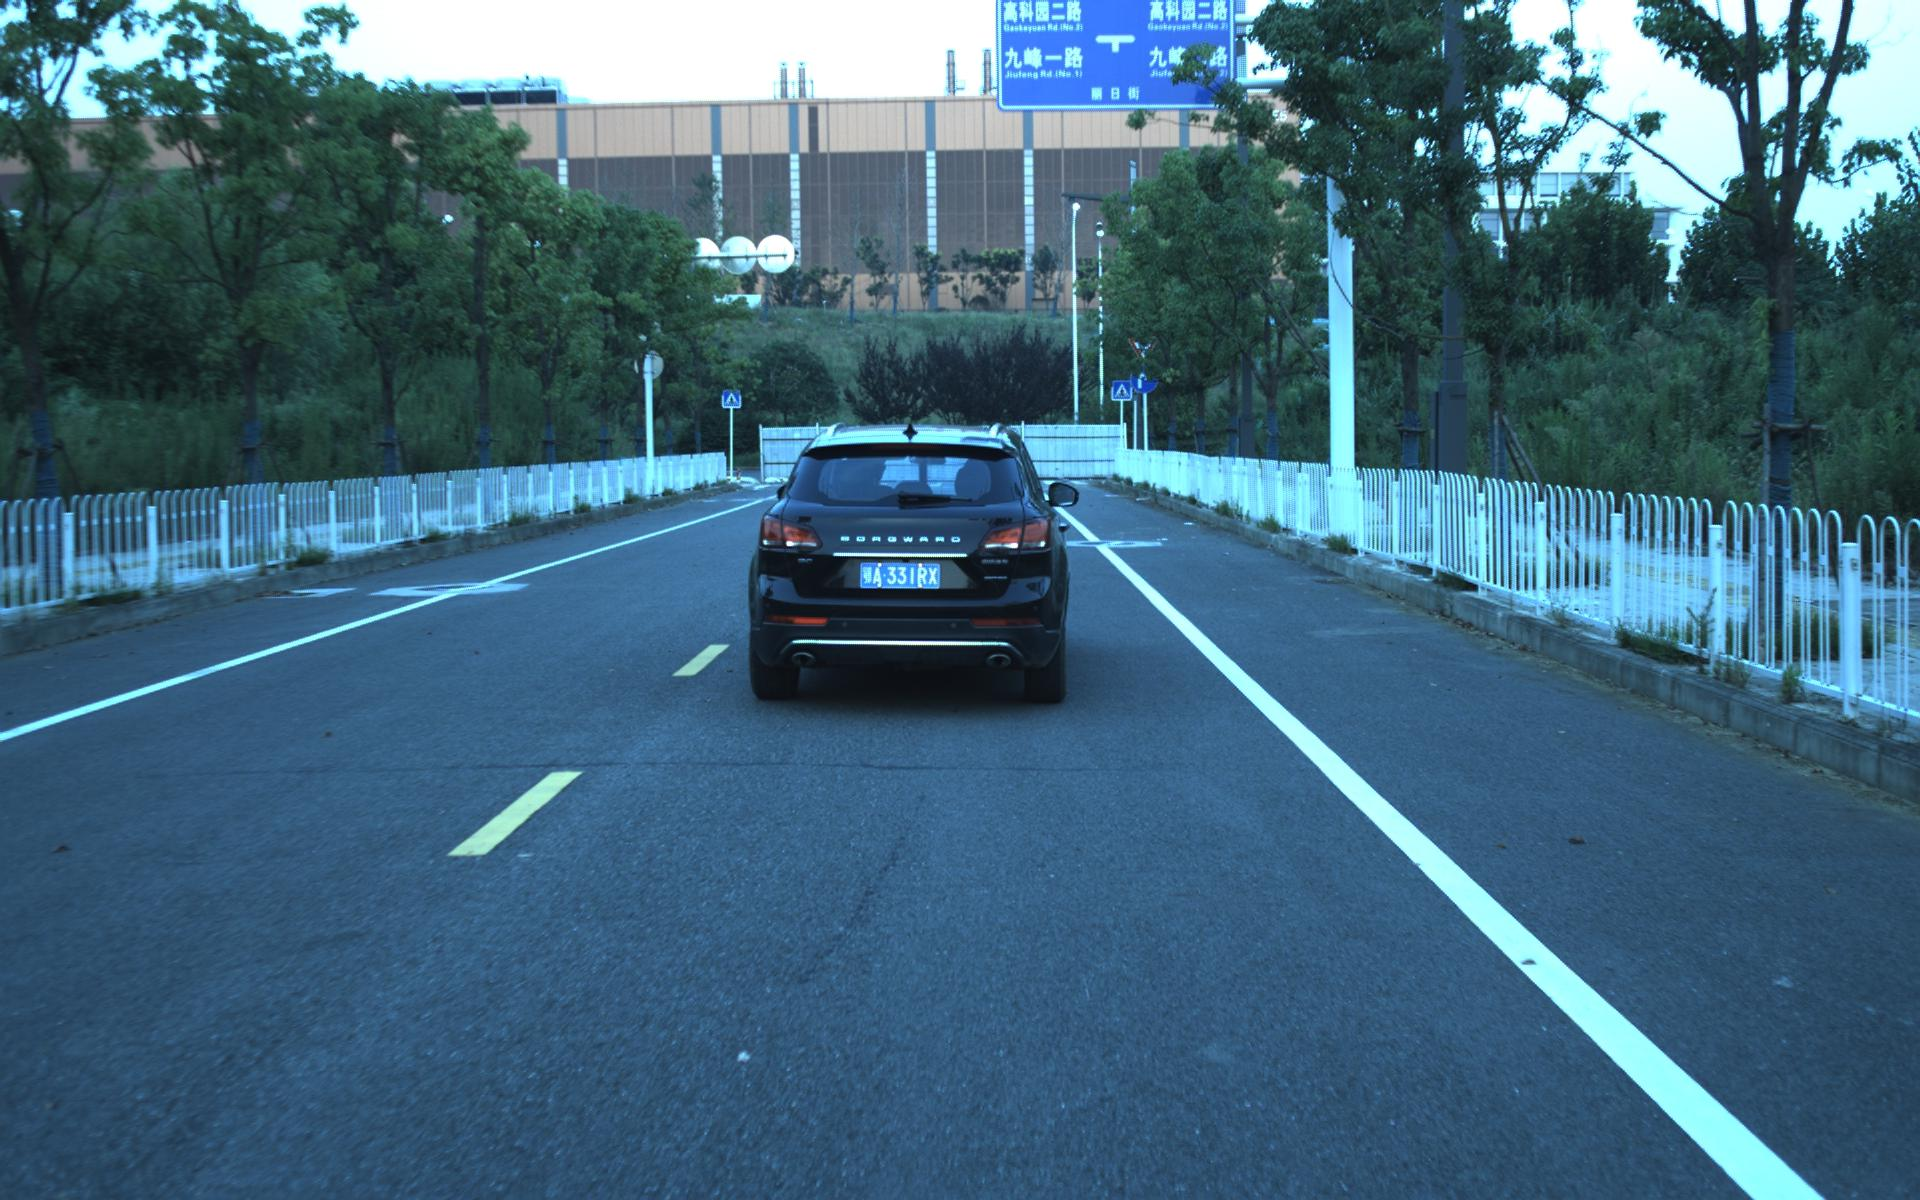Car: (742, 413, 1069, 709)
